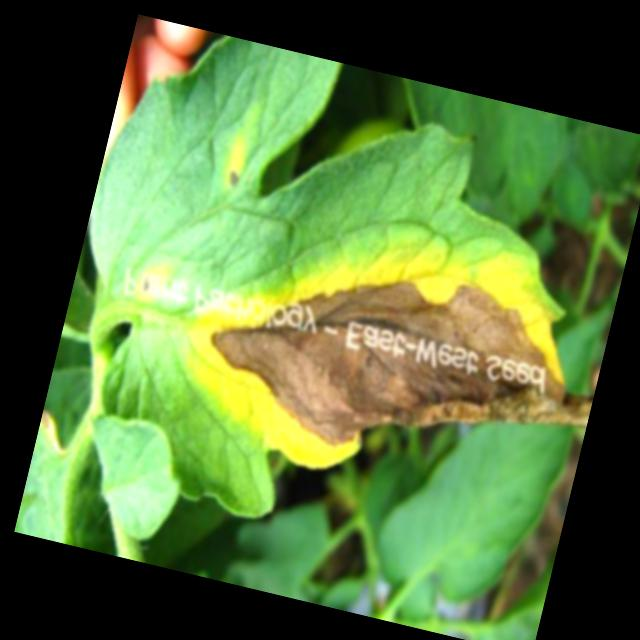Early_blight: (161, 189, 620, 527), (134, 271, 154, 298), (219, 168, 242, 190)
